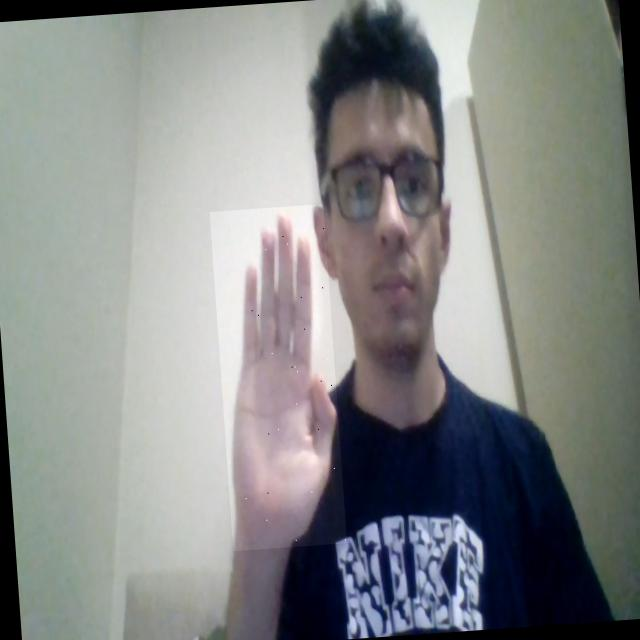hello: (210, 204, 346, 550)
